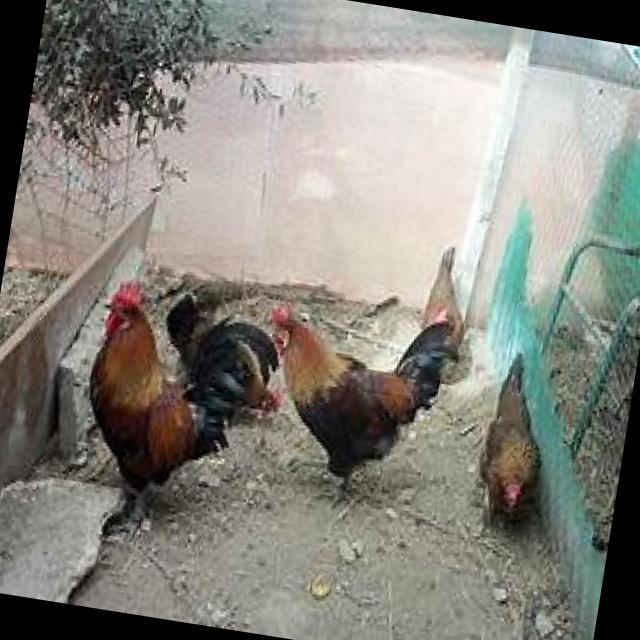animal: (245, 218, 482, 505), (62, 272, 290, 560), (151, 288, 298, 430), (467, 346, 560, 534), (402, 239, 494, 371)
